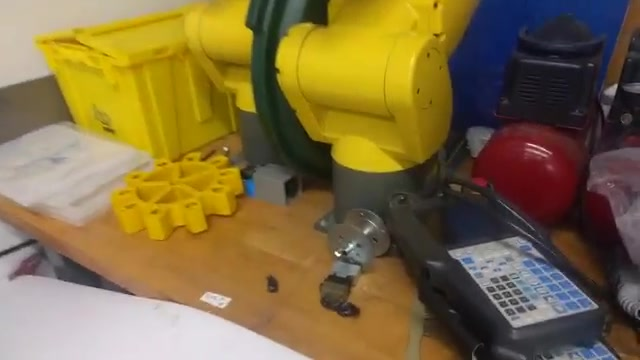gear: (113, 140, 242, 241)
